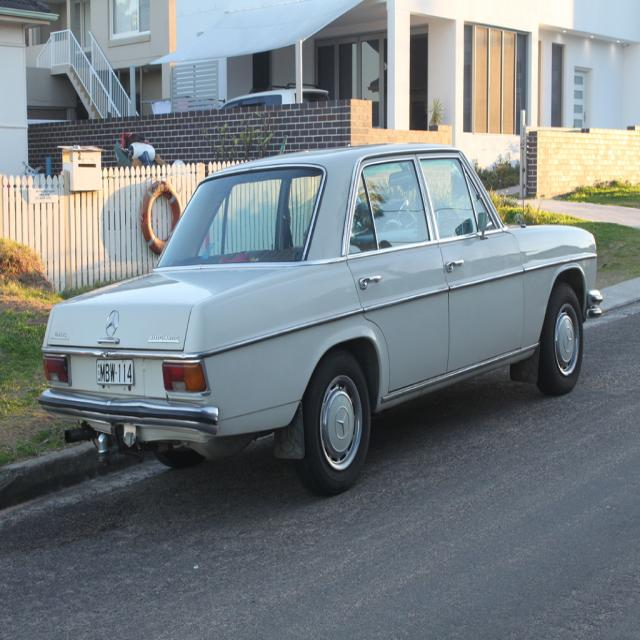car: (38, 140, 603, 490)
